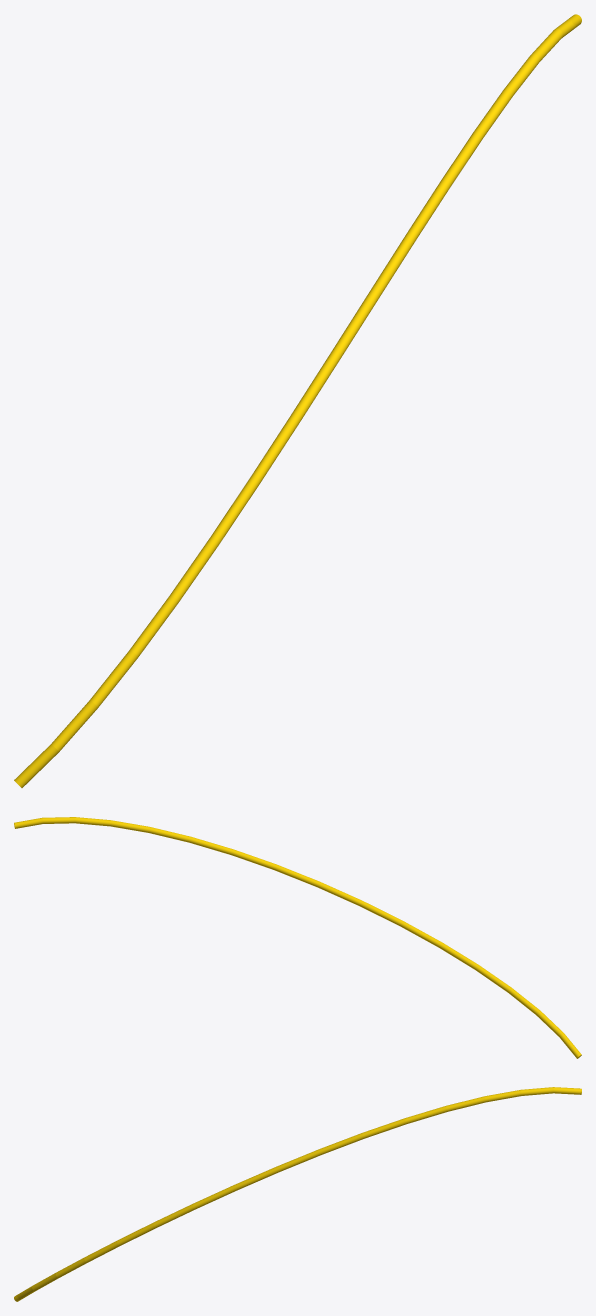
File: Event_421556567_track_0.fbx
The picture shows the model from 3 angles, top to bottom: view 1: azimuth 30°, elevation 25°; view 2: azimuth 150°, elevation 25°; view 3: azimuth 330°, elevation 25°; orthographic projection. The views are drawn at different scales.
Visible parts, largest first — view 1: Model; view 2: Model; view 3: Model.
Boxes of the visible parts, x1=… form: Model: x1=14, y1=14, x2=581, y2=787; Model: x1=14, y1=817, x2=581, y2=1058; Model: x1=14, y1=1087, x2=581, y2=1301.
Size of the model in its own units: 3.2 by 1.58 by 1.68.
